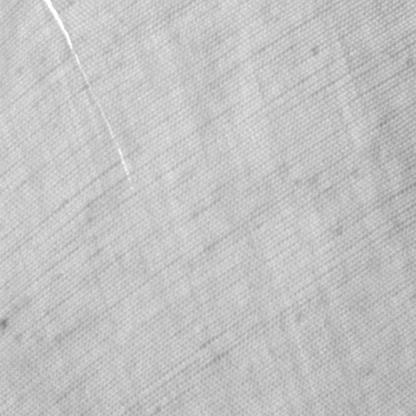hole: (38, 0, 138, 202)
